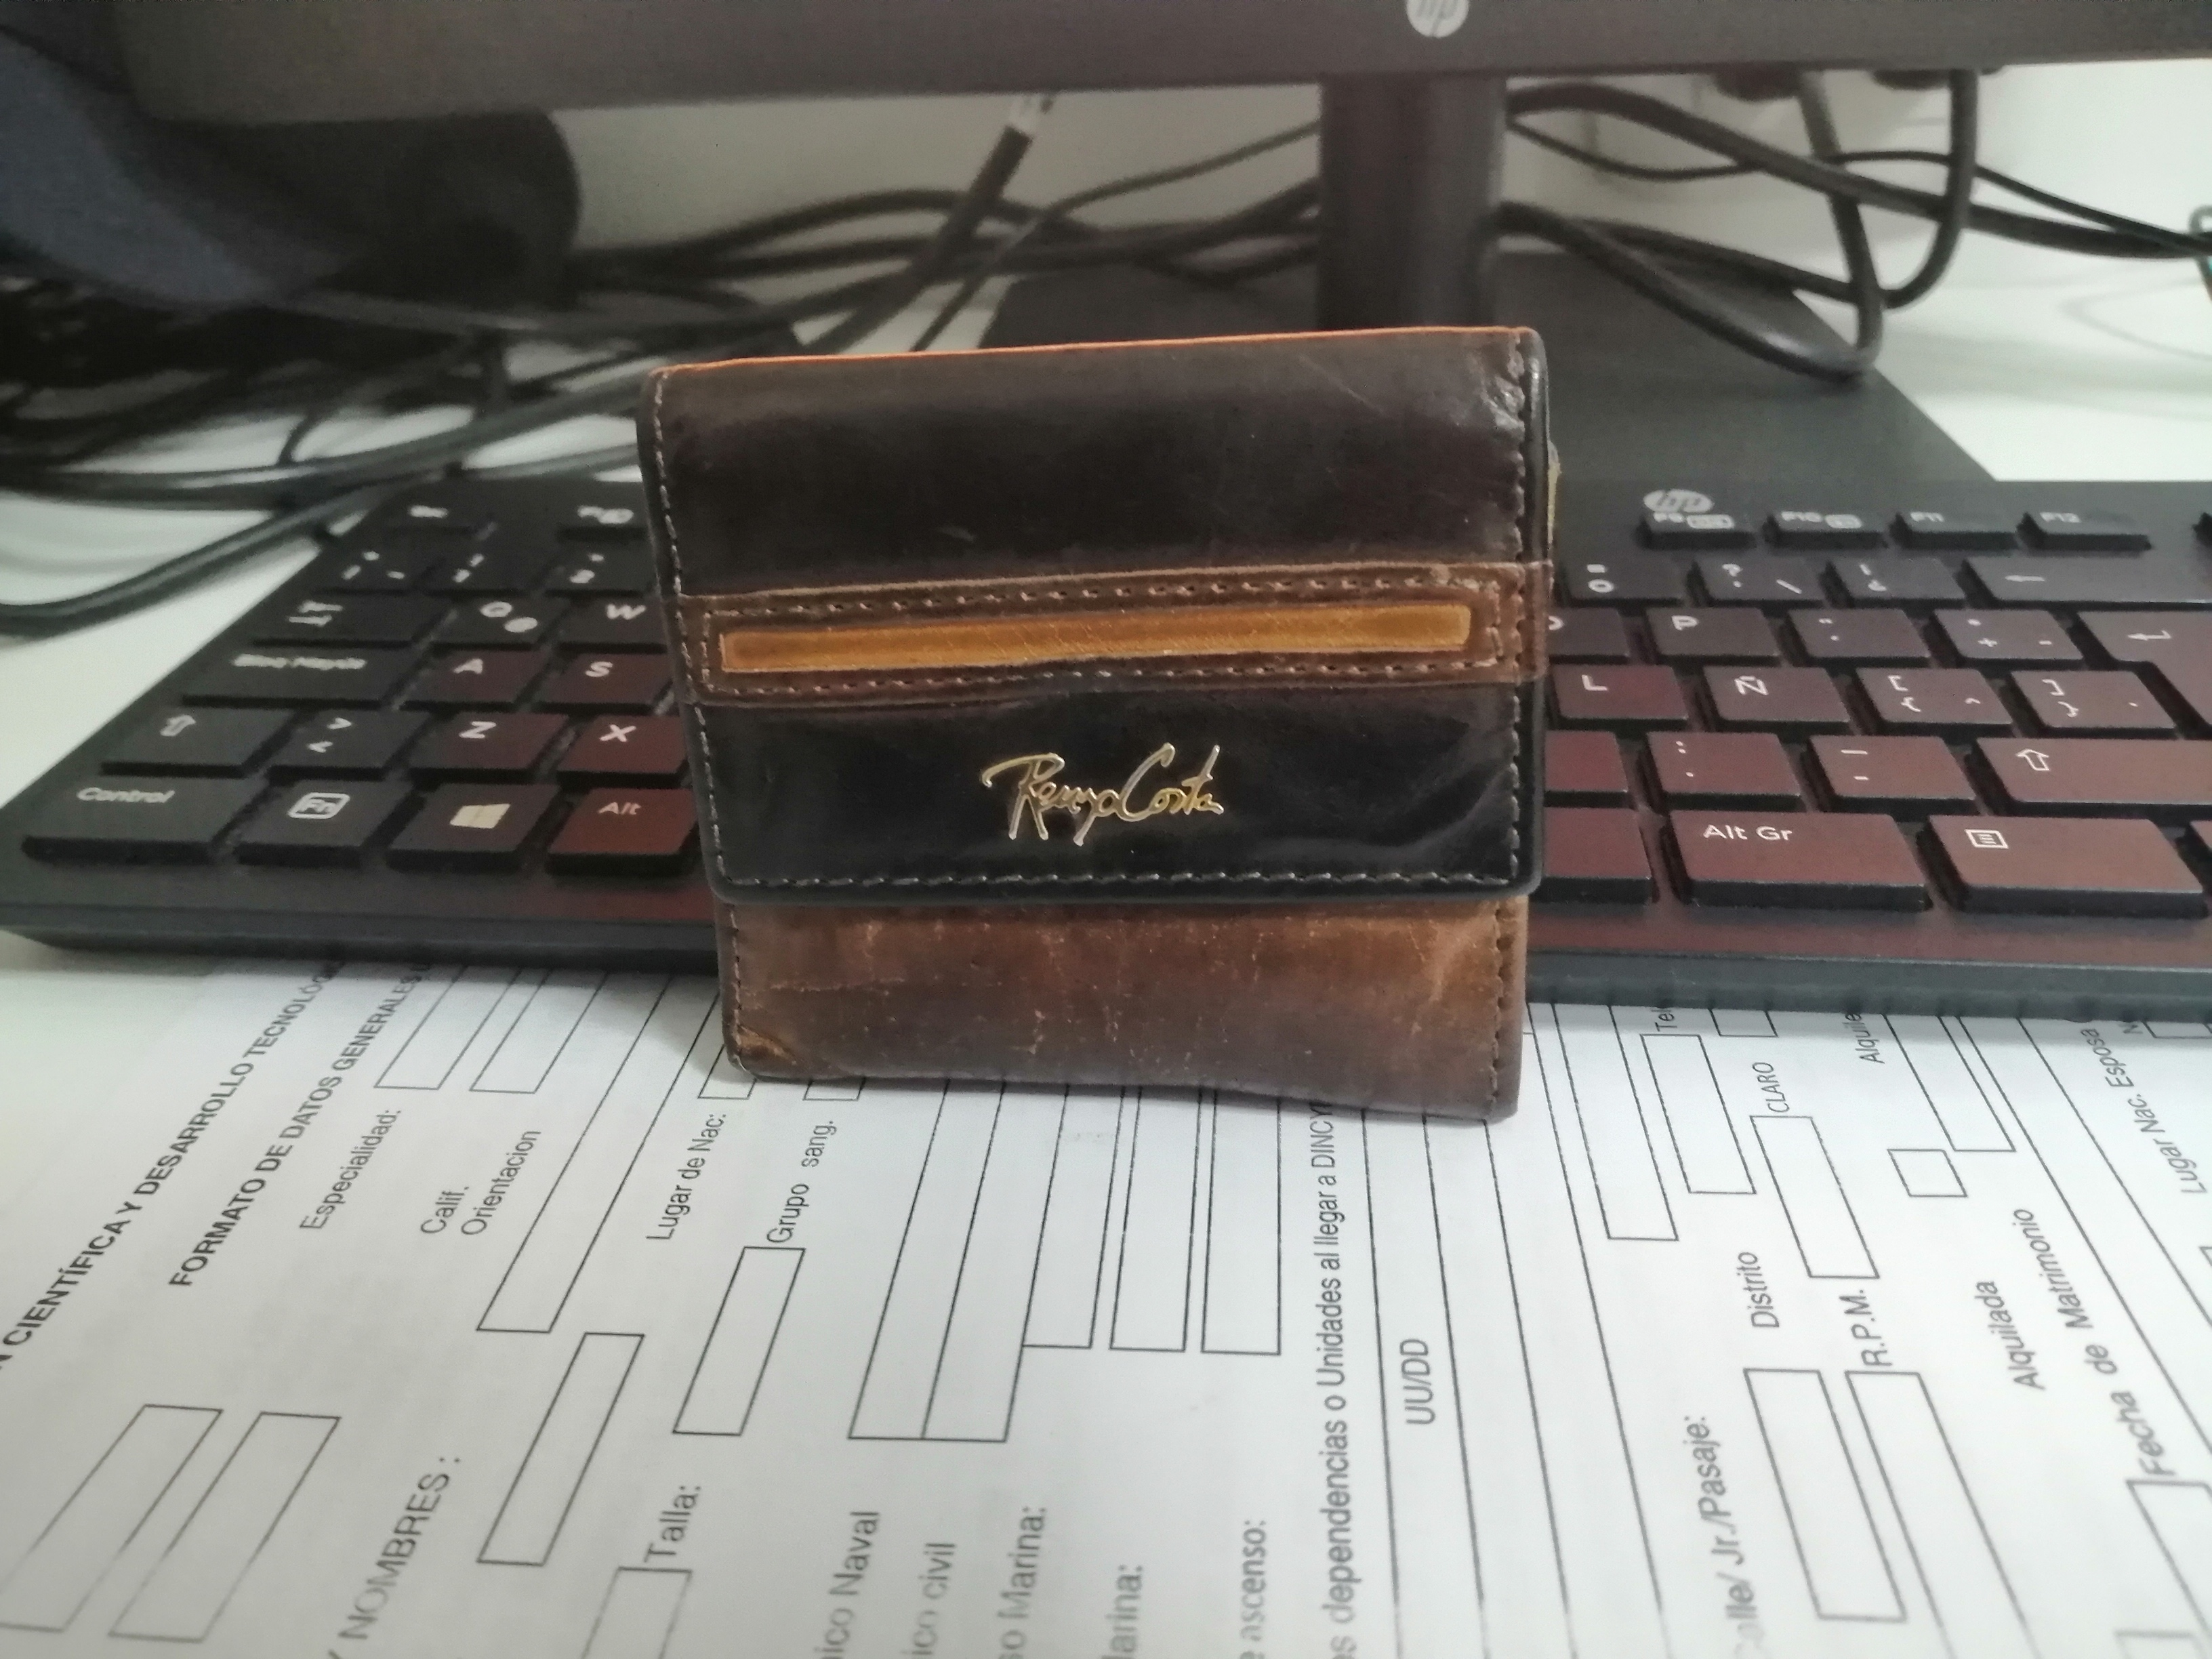monedero: (625, 319, 1559, 1138)
